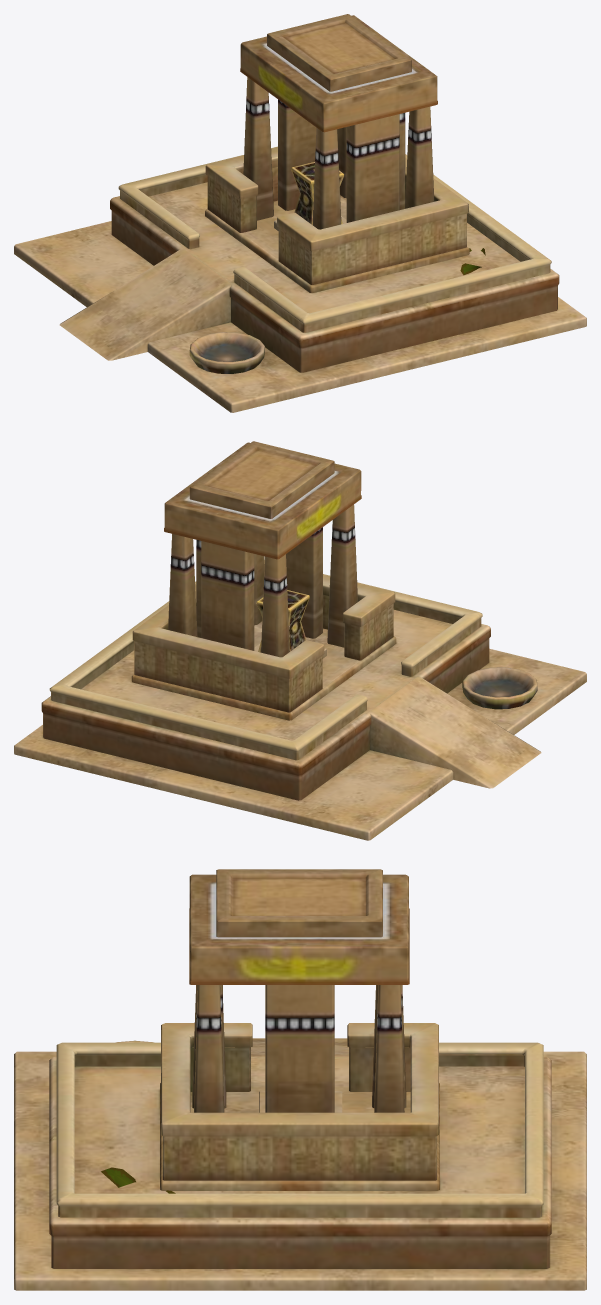
File: 22-temple.glb
3 renders of one model, top to bottom at view 1: azimuth 30°, elevation 25°; view 2: azimuth 150°, elevation 25°; view 3: azimuth 270°, elevation 25°, orthographic. The views are drawn at different scales.
Bounding box in the file's own units: 10.04 × 5.69 × 9.62.
Materials: 2 (2 with a texture image).
